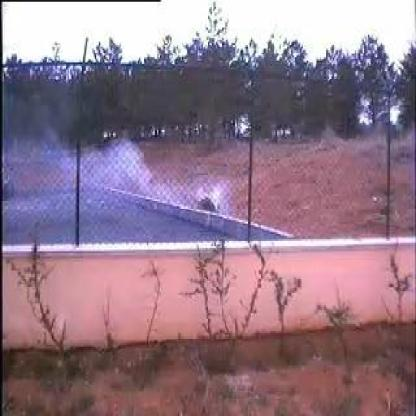-: (36, 115, 228, 233)
